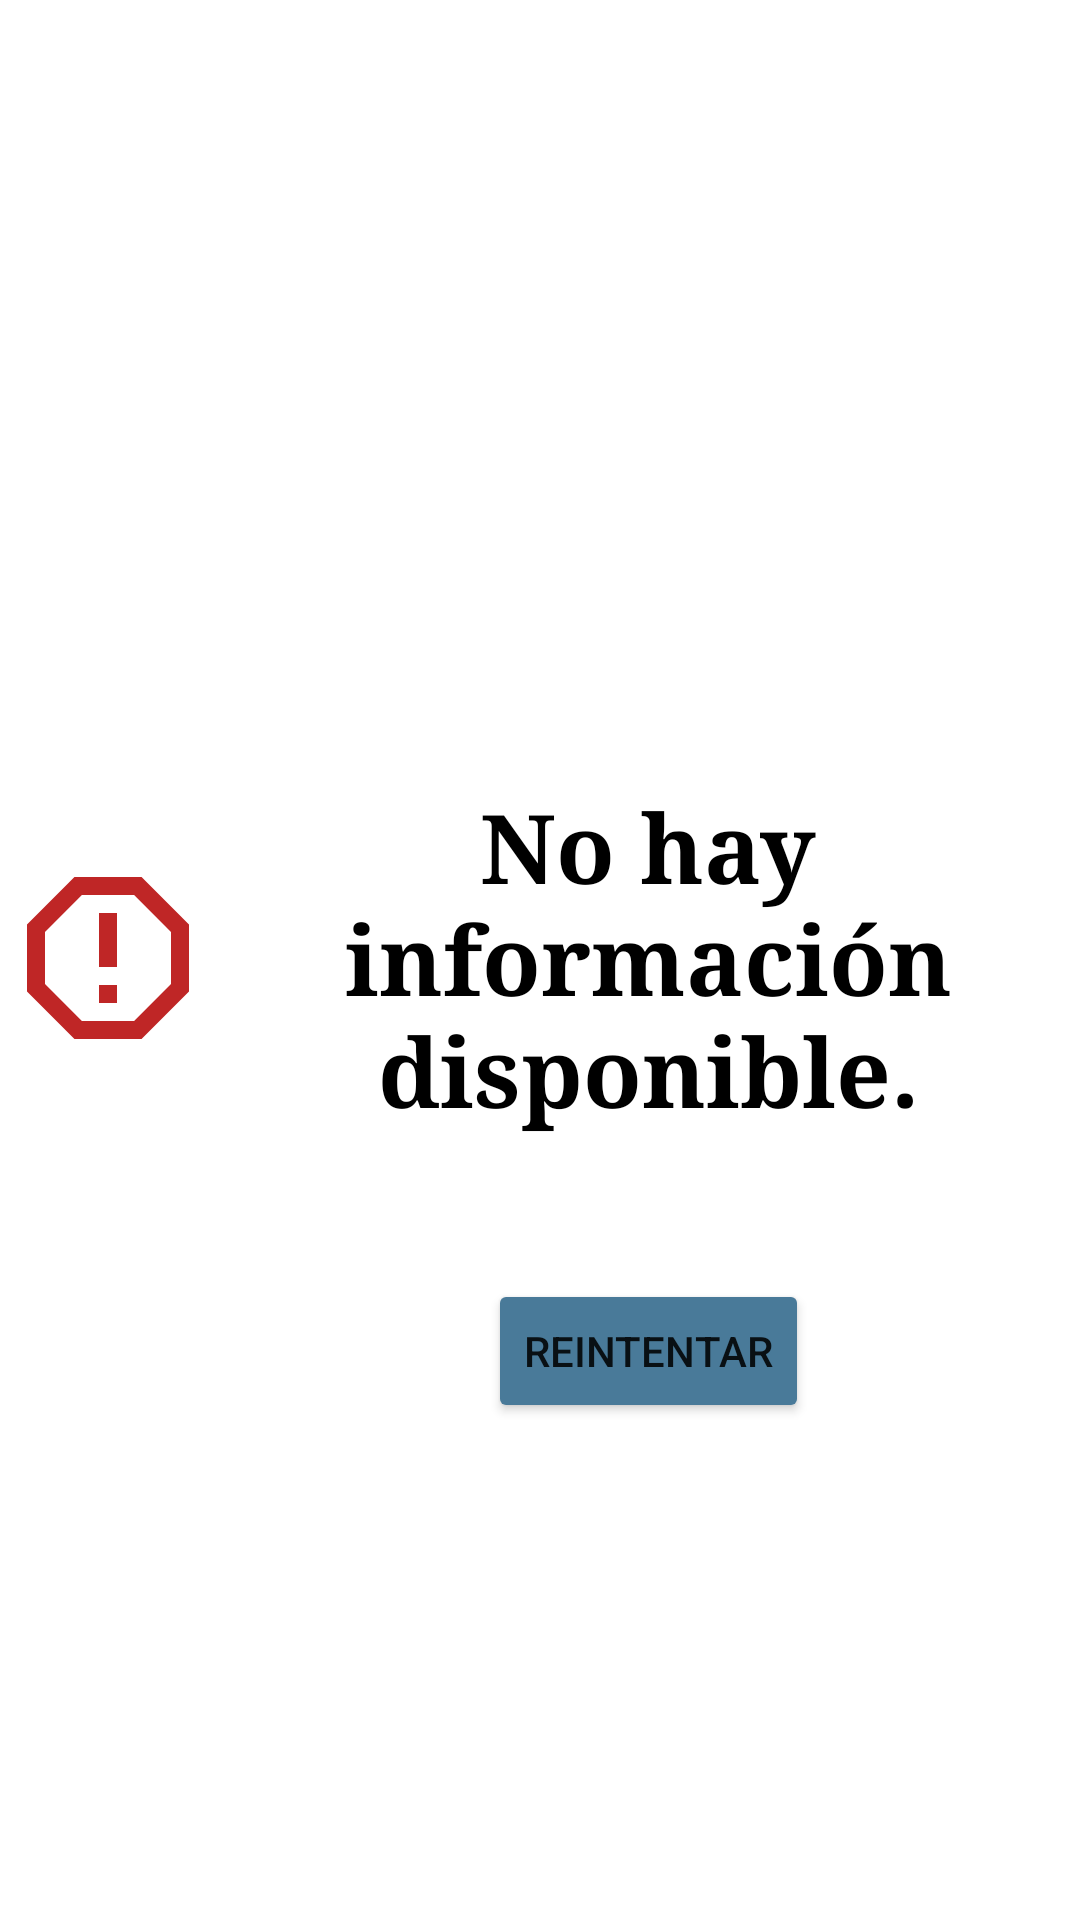

Screen size 1080×1920. Icon name, then its box in pixels as rect(x1, y1, x2, y2):
error: rect(27, 877, 189, 1039)
